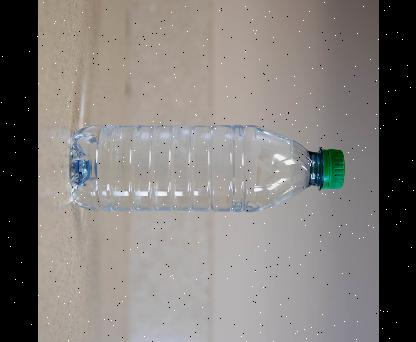Plastic Bottle: (69, 123, 345, 212)
